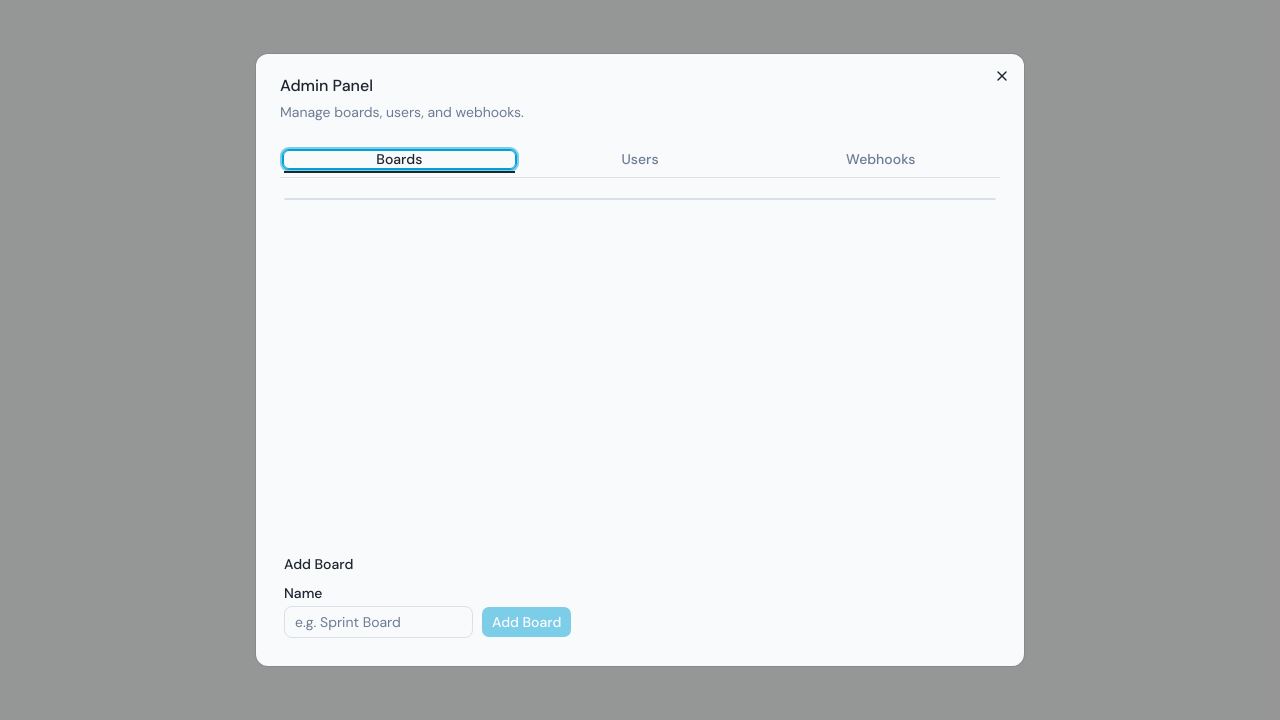
Test case: GlobalAdminPanel — UsersTab edit flow › renders role label for every known ROLES value
Click the tab "Users" at (640, 159), box [524,150,756,168]
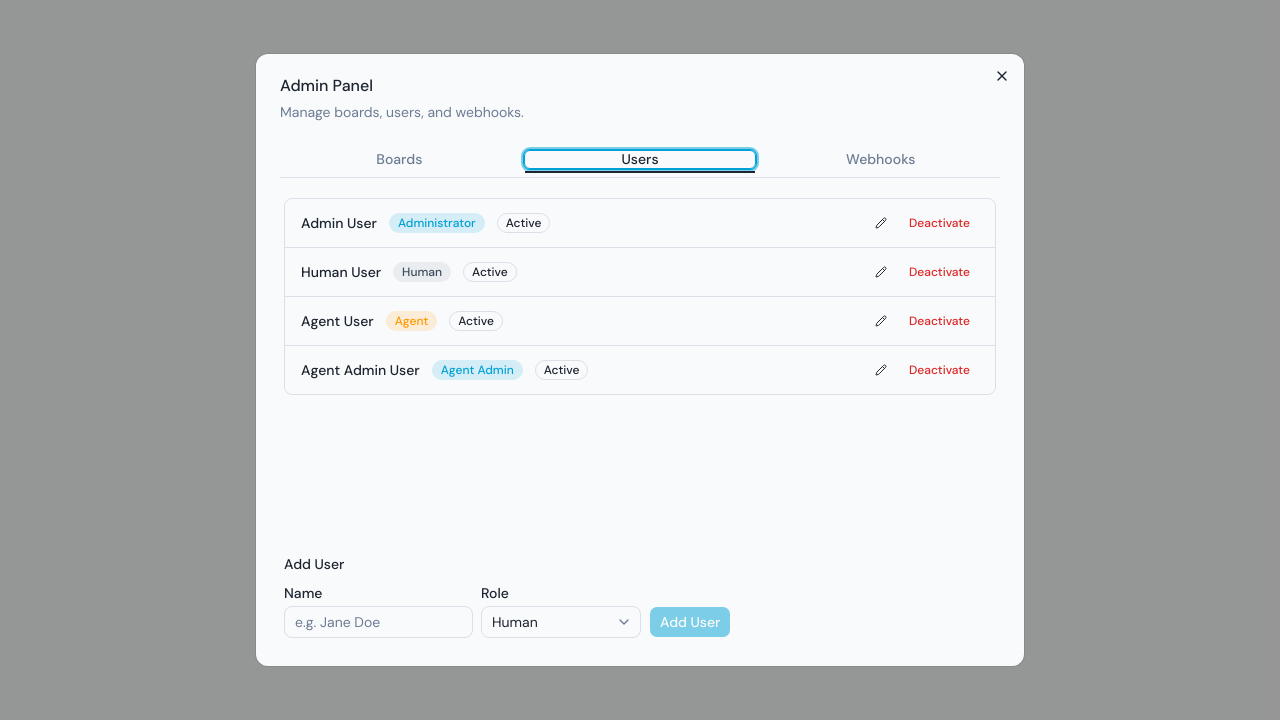
Expected: the text "Admin User" is shown, [301,213,377,233]
Expected: the text "Human User" is shown, [301,262,381,282]
Expected: the text "Agent User" is shown, [301,311,374,331]
